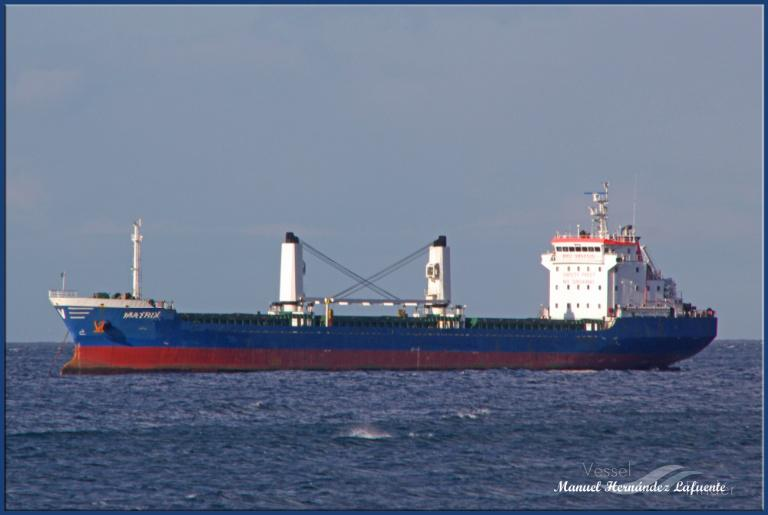OCR: (121, 308, 166, 324)
